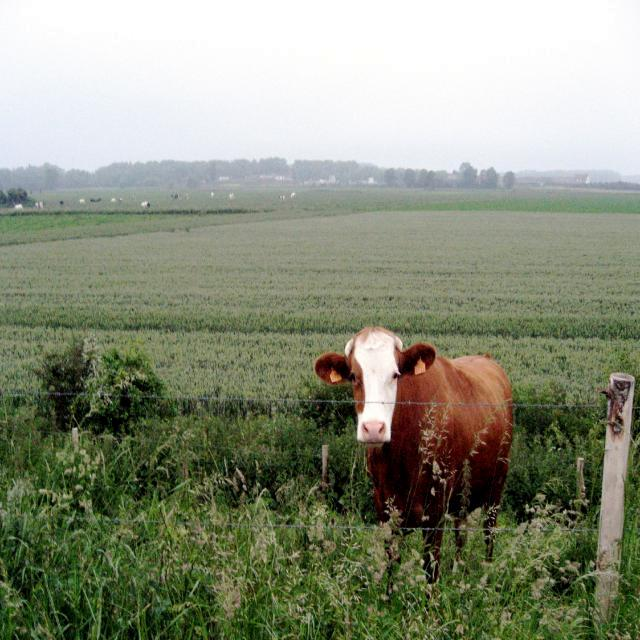COW: (315, 327, 512, 583)
